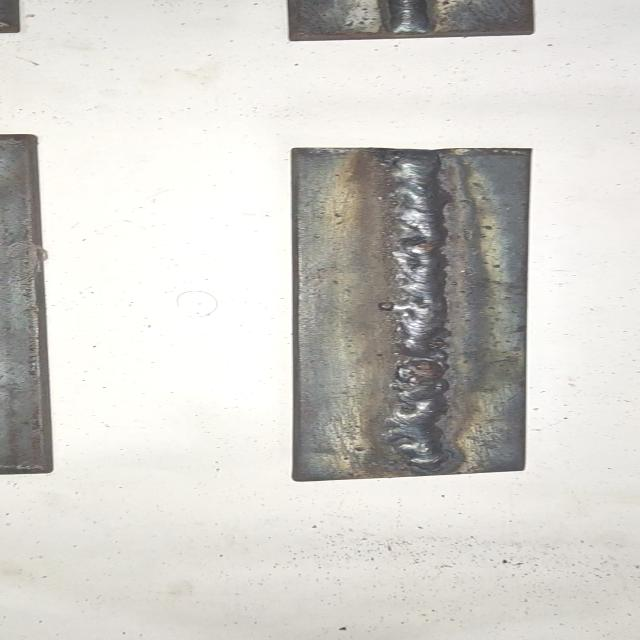Bad Weld: (392, 156, 449, 471)
Defect: (380, 338, 455, 402), (371, 246, 418, 333)
